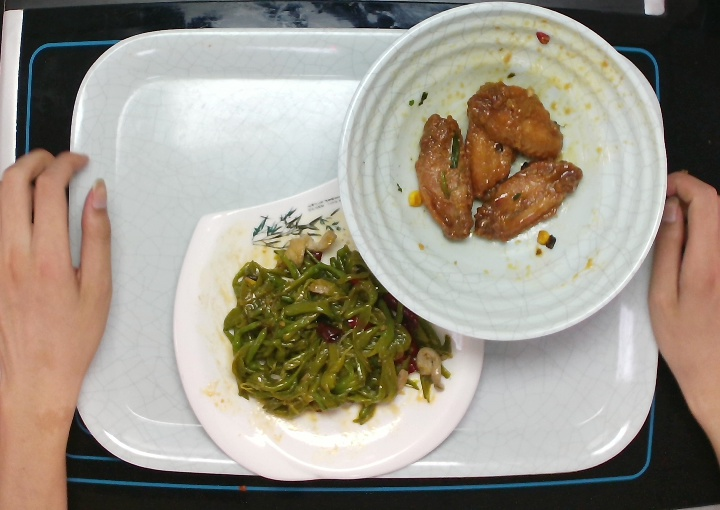JYsf-Da_Tang_Wan: (336, 1, 670, 344)
JYsf-Mian_Pan: (167, 173, 489, 485)
